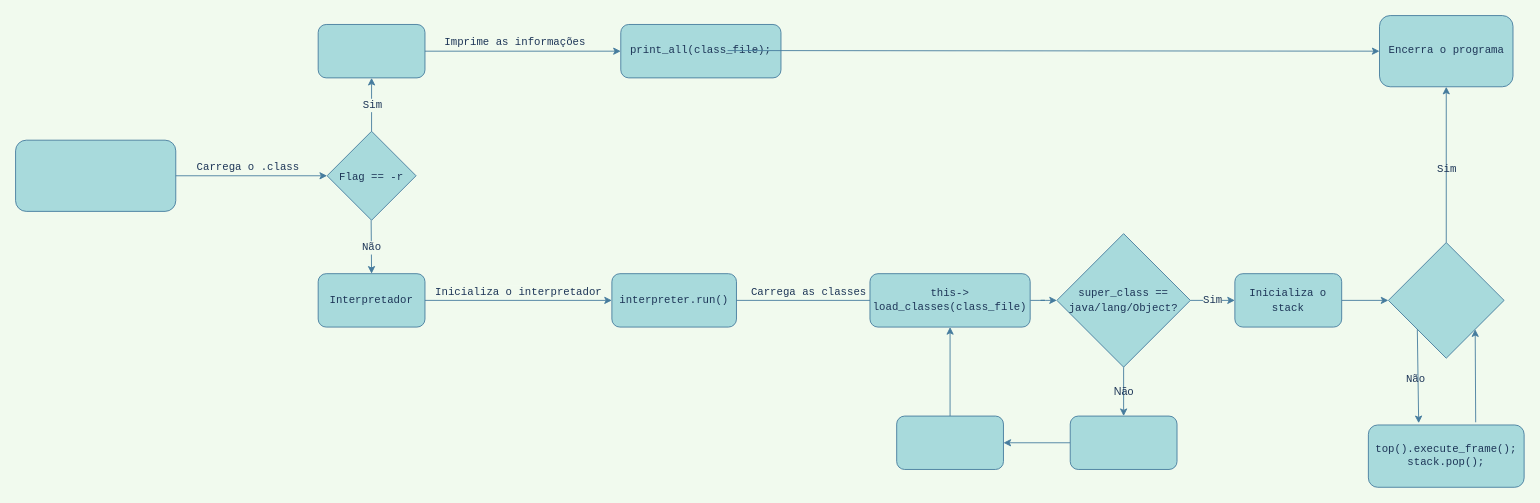
This 1540x503 diagram has some shape labels left out. The centre of each missing label's shape, as x and y in pixels:
Carrega class_file no method_area: pixel 1123 442
class_file = super_class: pixel 949 442
Leitor/Exibidor: pixel 371 51
Main() ClassLoader.load(file): pixel 95 175
stack.empty(): pixel 1446 300
